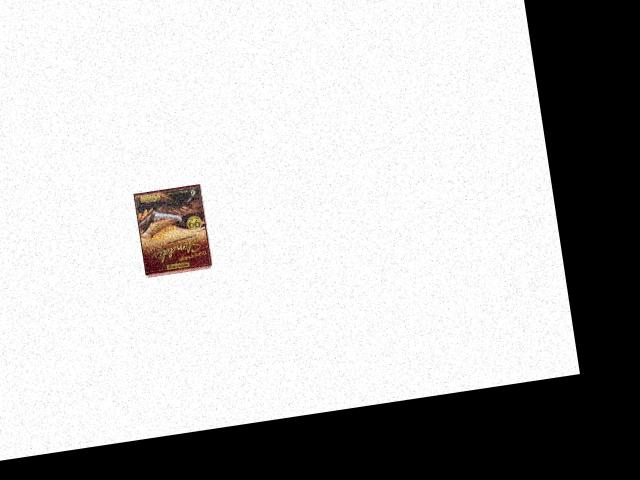chocolate: (133, 183, 212, 278)
